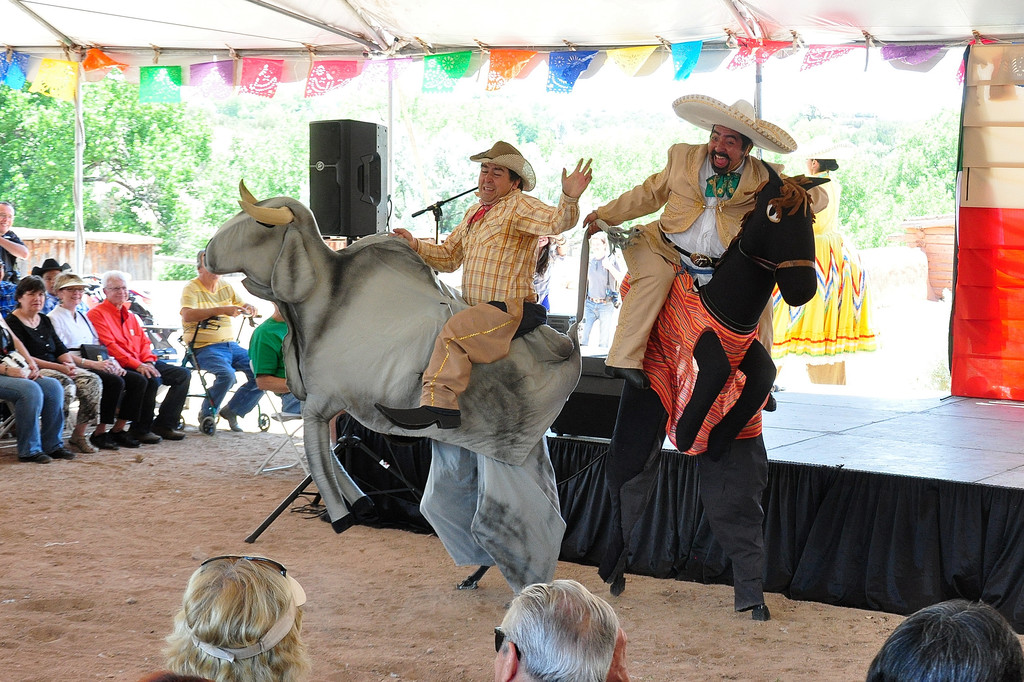Animal: (201, 179, 632, 535)
